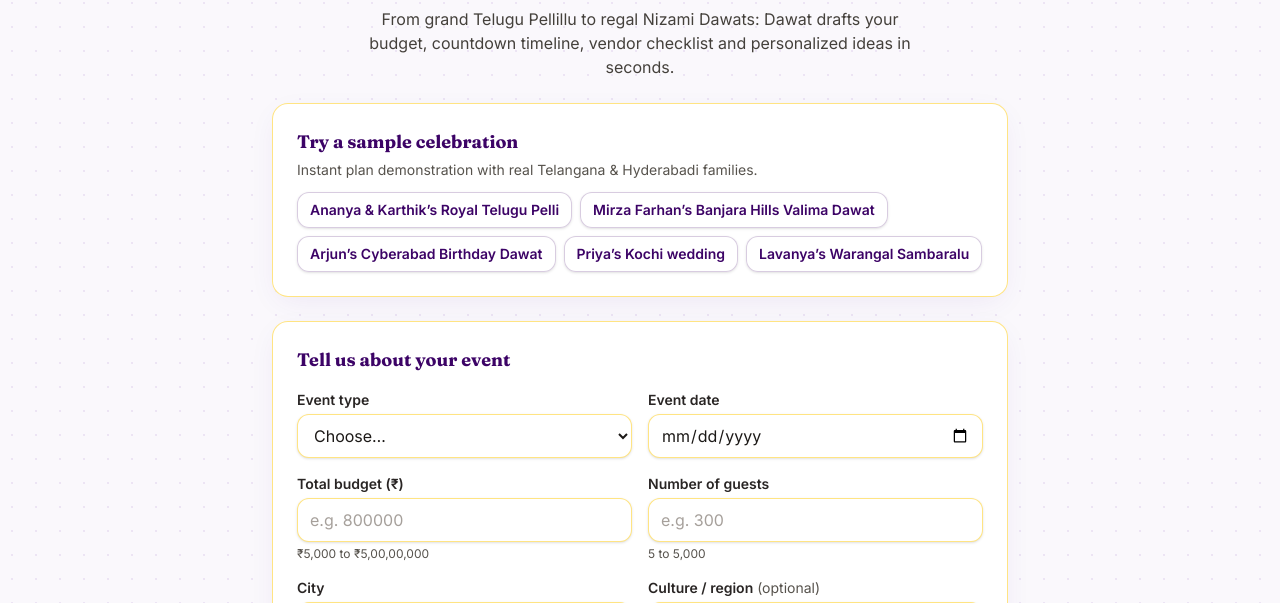
EventForm › “Try a sample” fills a persona and submits it
The width and height of the screenshot is (1280, 603).
Click the button "Priya’s Kochi wedding" at [651, 254], box [564,236,738,272]
(page scrolled)
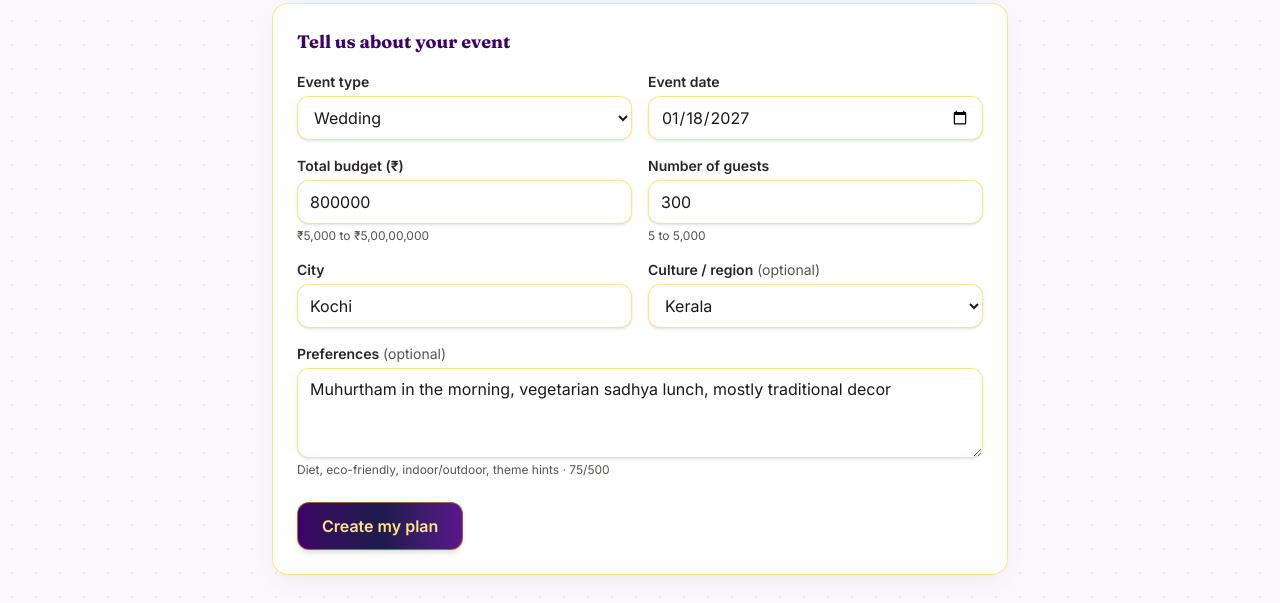
Now the field labelled "City" holds "Kochi", box [297,284,632,328]
